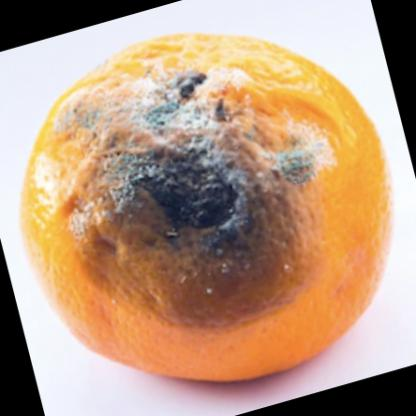rotten_orange: (24, 22, 399, 396)
